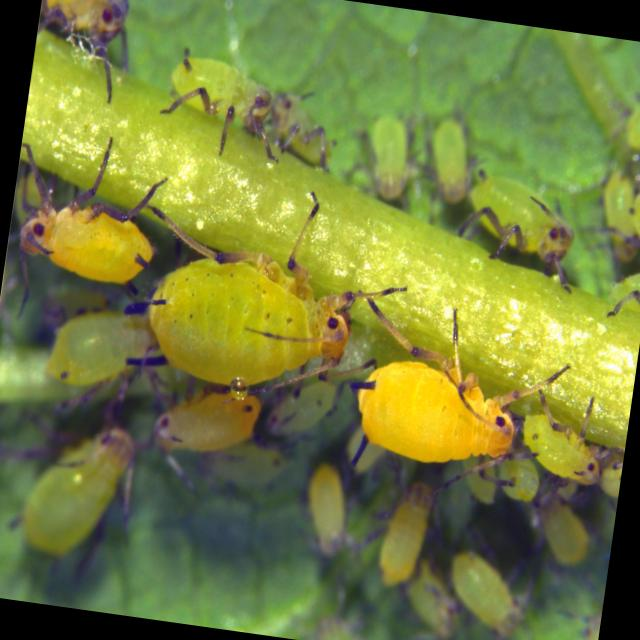Aphids: (118, 176, 392, 428), (329, 283, 556, 515), (0, 111, 180, 335), (0, 390, 151, 593), (437, 162, 594, 300), (152, 46, 288, 164), (145, 371, 271, 479), (366, 459, 456, 608), (504, 386, 614, 502), (432, 535, 553, 640)
